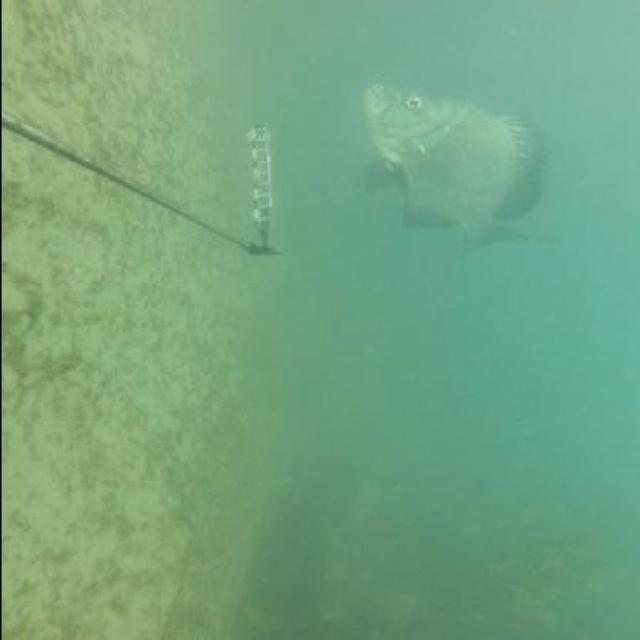acanthopagrus_palmaris: (354, 79, 549, 261)
